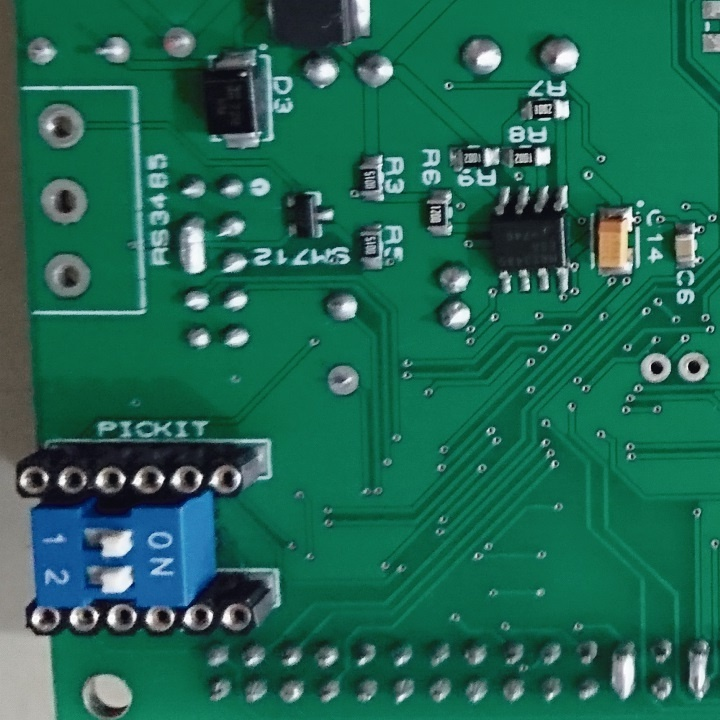F: (37, 174, 90, 232), (41, 248, 96, 303), (32, 100, 88, 152), (91, 32, 136, 69), (159, 23, 198, 63), (23, 32, 59, 72), (323, 362, 361, 398), (676, 350, 712, 385), (639, 352, 672, 384)
P: (682, 631, 713, 706), (175, 211, 208, 278), (609, 630, 638, 704)
